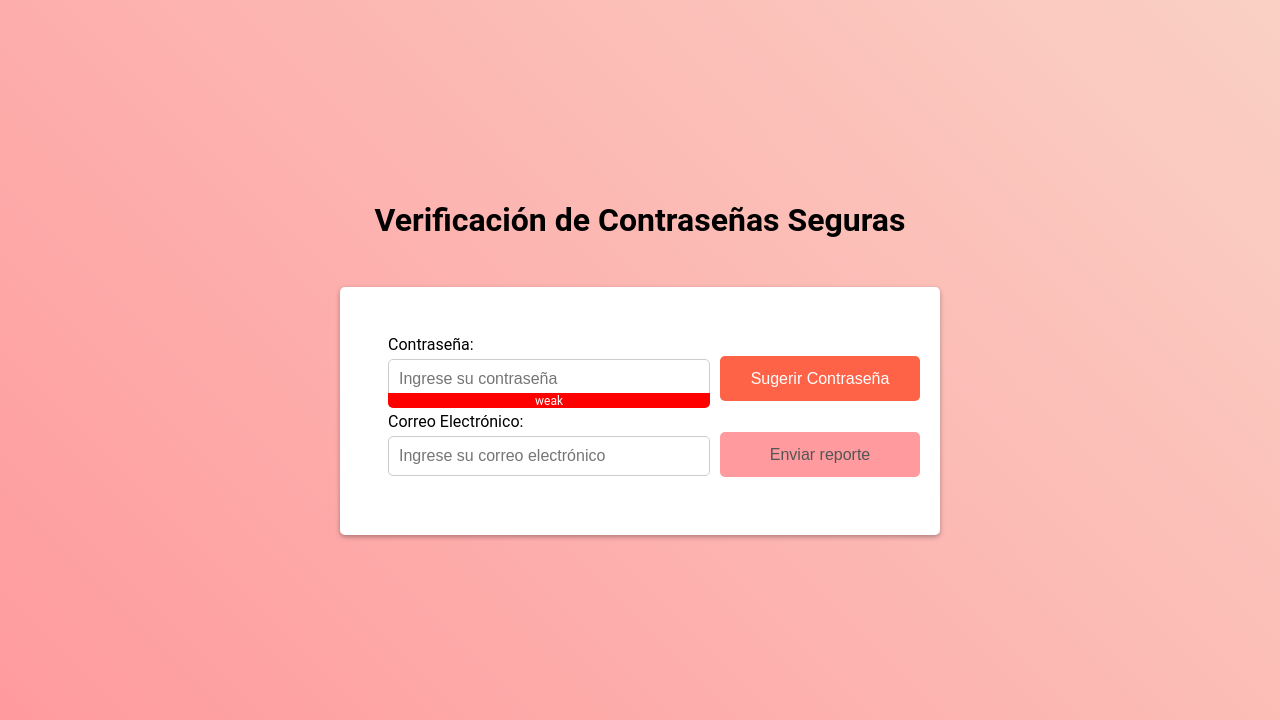
Test: Home › Debería mostrar un mensaje de carga cuando se pulsa el botón "Enviar reporte"
The image size is (1280, 720).
Expected: the element showing "weak" is shown, [388, 393, 710, 408]
Type "Abcdef123!@#" into the element showing "Contraseña: weak Sugerir Contraseña" at (654, 368), box [388, 335, 920, 401]
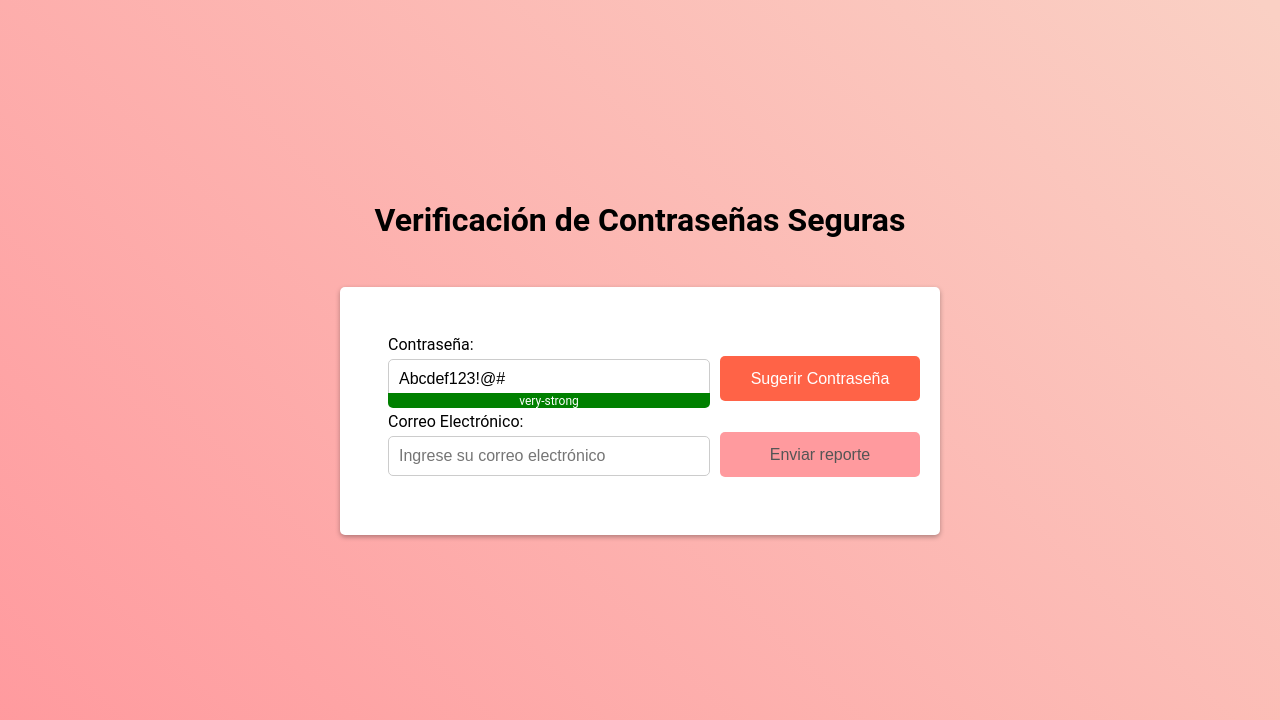
Type "valid@mail.com" into the element with id "emailInput" at (554, 444), box [388, 412, 720, 476]
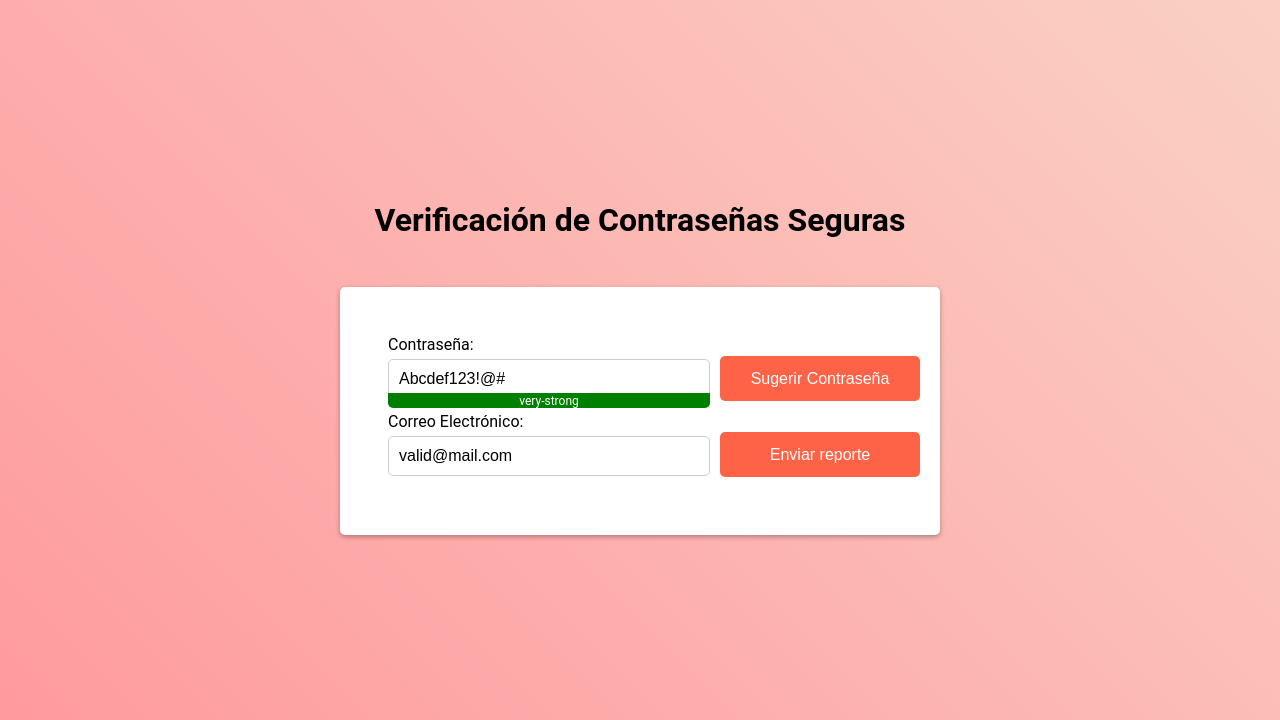
Click the button "Enviar reporte" at (820, 455), box [720, 432, 920, 477]
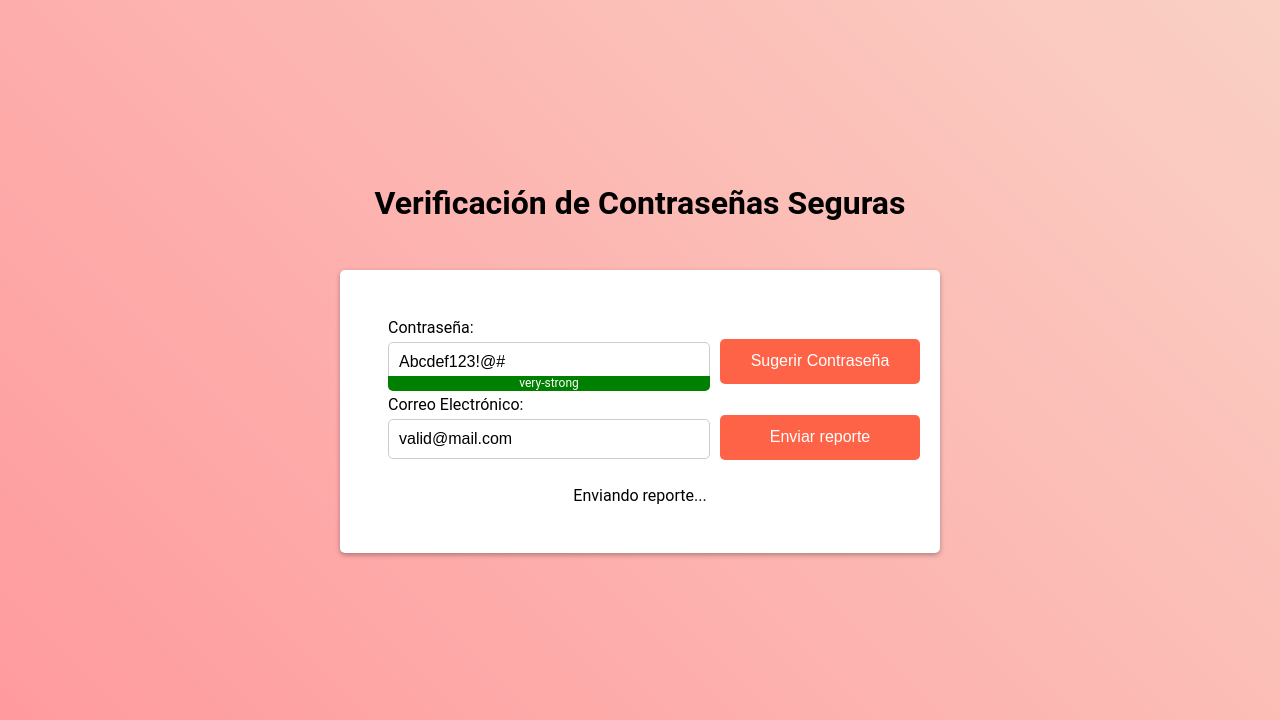
Expected: the text with class "loading" reads "Enviando reporte...", [573, 486, 706, 505]
